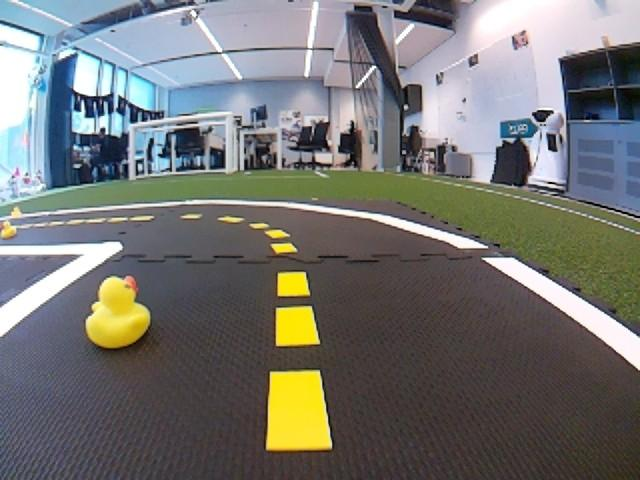Duckies: (86, 277, 150, 349), (1, 221, 16, 240), (11, 207, 23, 217)
